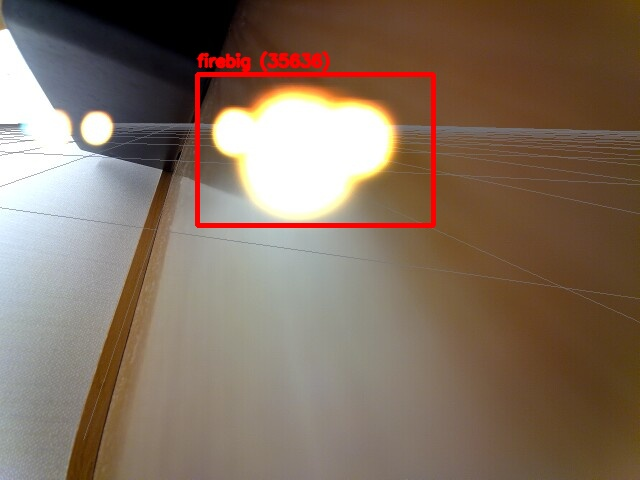firebig: (197, 74, 433, 225)
